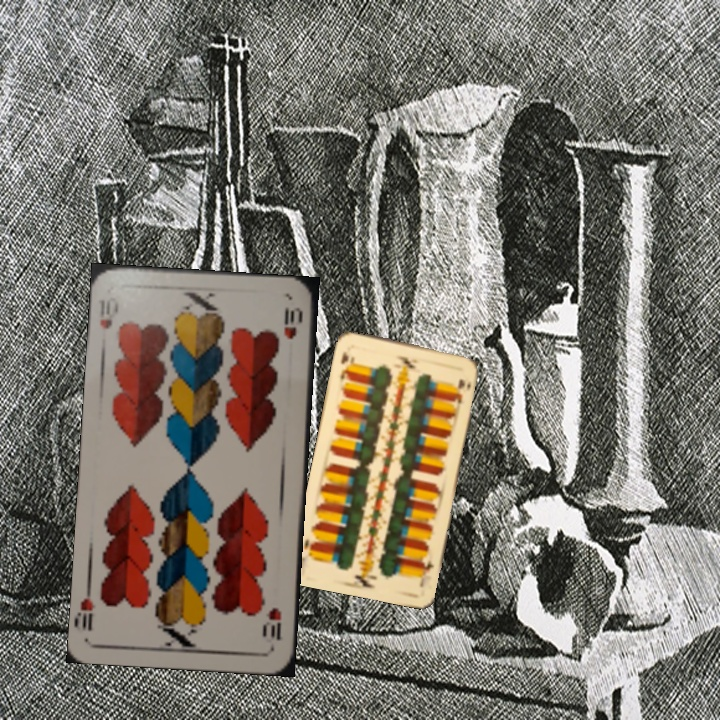E10: (336, 347, 356, 385), (416, 552, 436, 590)
H10: (95, 293, 121, 332), (261, 603, 284, 642)
